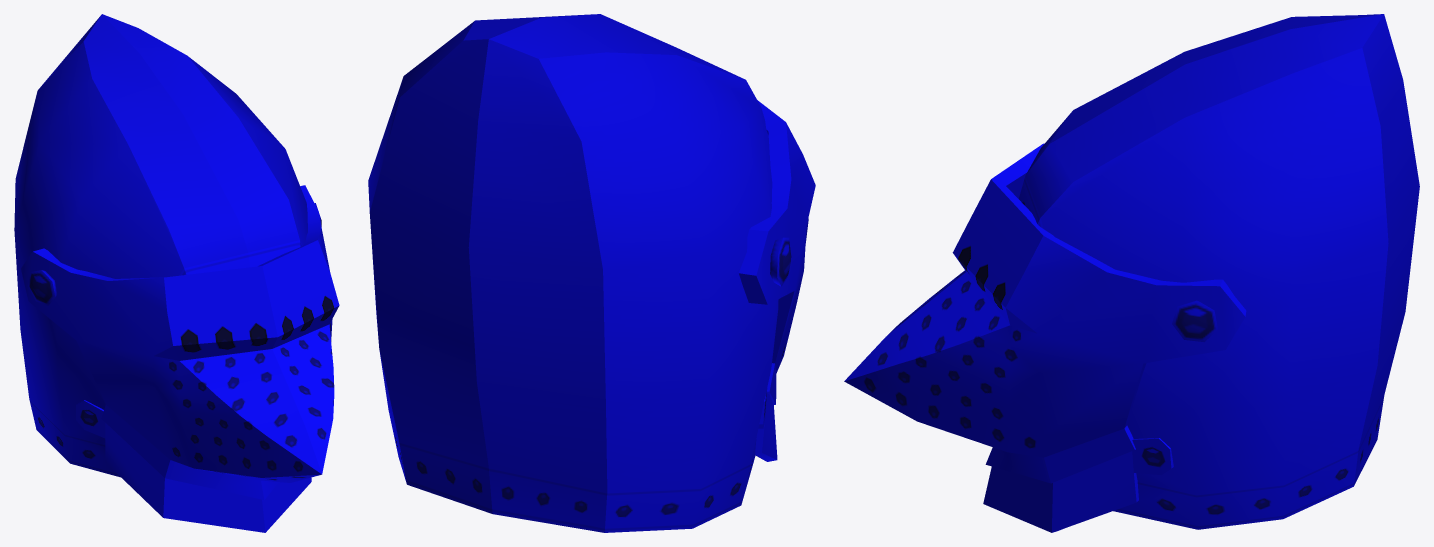
Rendered from BascinetHounskull_M.fbx.
3 views of the same model, side by side, from view 1: azimuth 30°, elevation 25°; view 2: azimuth 150°, elevation 25°; view 3: azimuth 270°, elevation 25° (orthographic). The views are drawn at different scales.
Visible parts, largest first — view 1: BascinetHounskull_M, BascinetHounskull_Visor_M; view 2: BascinetHounskull_M, BascinetHounskull_Visor_M; view 3: BascinetHounskull_M, BascinetHounskull_Visor_M.
Part boxes in pixels (x1,y1,x2,y2): BascinetHounskull_M: (14,14,311,532); BascinetHounskull_Visor_M: (21,185,339,499); BascinetHounskull_M: (368,14,778,532); BascinetHounskull_Visor_M: (738,100,815,404); BascinetHounskull_M: (983,14,1419,532); BascinetHounskull_Visor_M: (844,143,1246,483).
Bounding box in the file's own units: 30.31 × 40.94 × 43.47.
